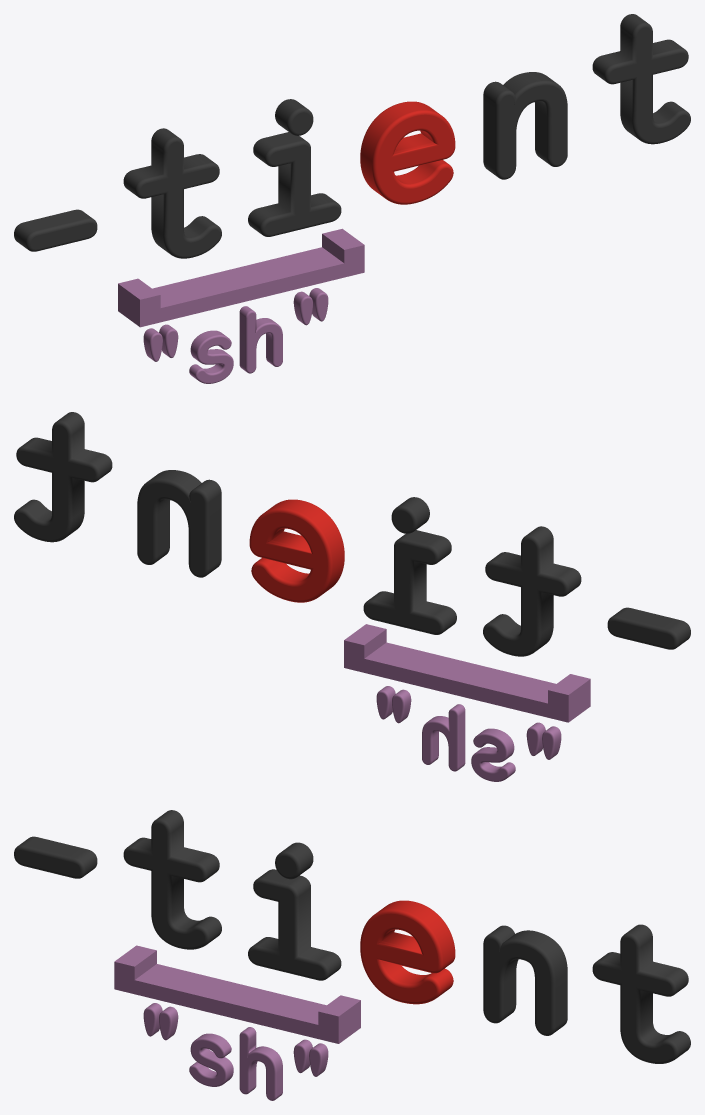
File: -tient.gltf
3 renders of one model, top to bottom at view 1: azimuth 30°, elevation 25°; view 2: azimuth 150°, elevation 25°; view 3: azimuth 330°, elevation 25°, orthographic.
Visible parts, largest first — view 1: Cube.000, Text.006, Text.003, Text.004, Text.002, Text, Text.001; view 2: Cube.000, Text.006, Text.003, Text.004, Text.002, Text, Text.001; view 3: Cube.000, Text.006, Text.003, Text.004, Text.002, Text, Text.001.
Boxes of the visible parts, x1,y1,x2,y2 form: Cube.000: (118, 228, 364, 327); Text.006: (14, 128, 221, 258); Text.003: (360, 101, 455, 204); Text.004: (592, 14, 690, 144); Text.002: (483, 72, 567, 179); Text: (248, 99, 341, 236); Text.001: (143, 288, 328, 383); Cube.000: (344, 624, 590, 722); Text.006: (483, 526, 690, 656); Text.003: (249, 499, 344, 602); Text.004: (14, 412, 112, 542); Text.002: (137, 470, 221, 577); Text: (363, 497, 456, 634); Text.001: (376, 686, 561, 781); Cube.000: (114, 945, 360, 1043); Text.006: (14, 810, 221, 949); Text.003: (360, 900, 455, 1004); Text.004: (592, 924, 690, 1063); Text.002: (483, 925, 567, 1035); Text: (248, 842, 341, 980); Text.001: (143, 1003, 328, 1100).
Bounding box in the file's own units: 3.29 × 1.22 × 0.1906.
